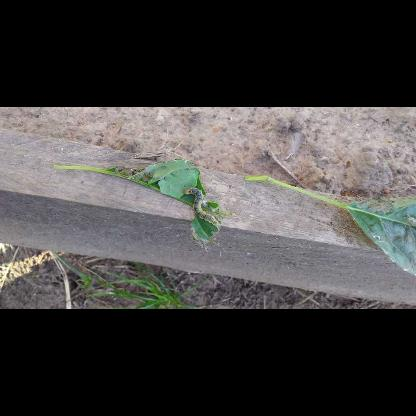Fall Armyworm Larvae: (182, 186, 220, 228)
